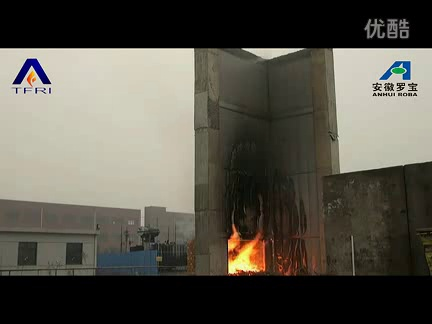fire: (227, 223, 271, 277)
